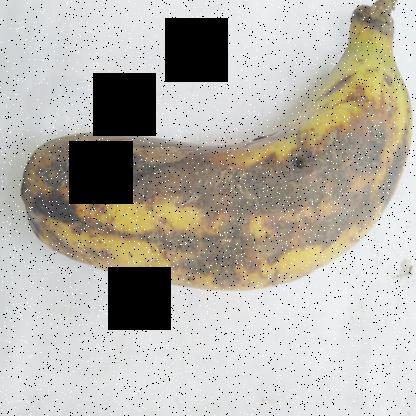rotten: (13, 0, 415, 306)
